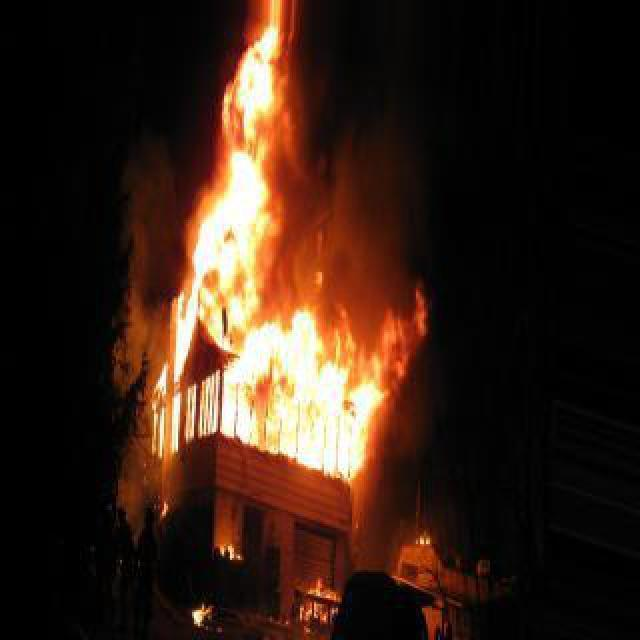Fire: (154, 34, 428, 458), (294, 576, 338, 630), (216, 518, 246, 570), (184, 596, 214, 638), (408, 520, 434, 558)
